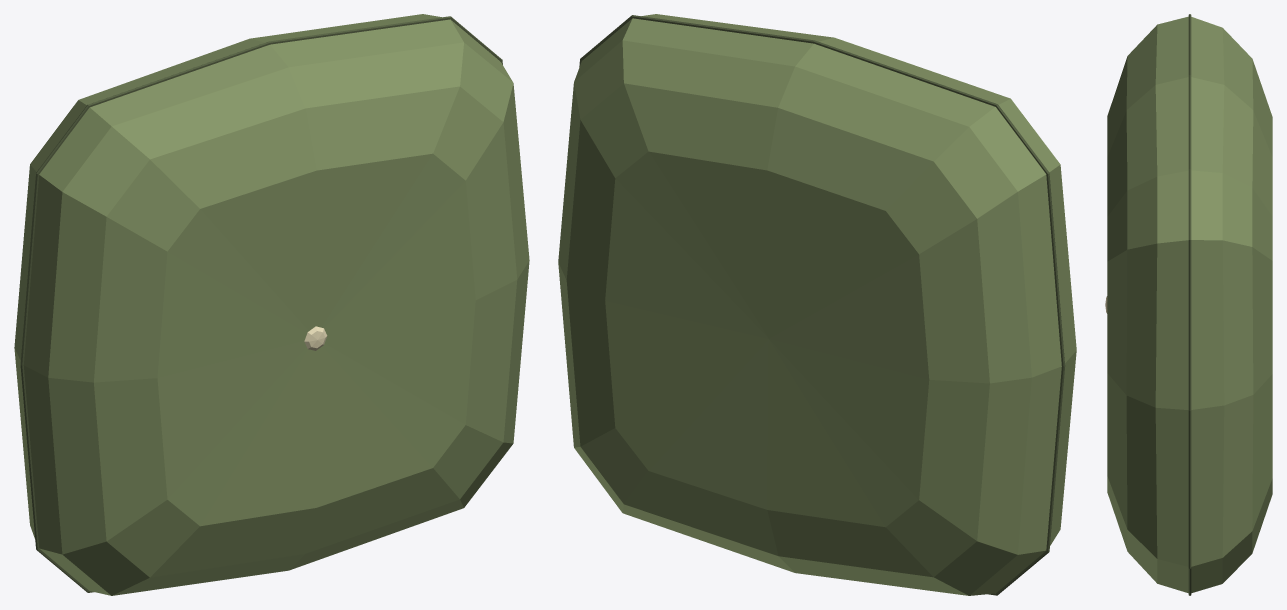
File: cushion.glb
3 renders of one model, left to right at view 1: azimuth 30°, elevation 25°; view 2: azimuth 150°, elevation 25°; view 3: azimuth 270°, elevation 25°, orthographic. The views are drawn at different scales.
Visible parts, largest first — view 1: cushion; view 2: cushion; view 3: cushion.
Part boxes in pixels (left/top/right/bottom): cushion: left=14, top=14, right=529, bottom=595; cushion: left=558, top=14, right=1076, bottom=595; cushion: left=1105, top=14, right=1272, bottom=595.
Bounding box in the file's own units: 0.3026 × 0.306 × 0.1008.
